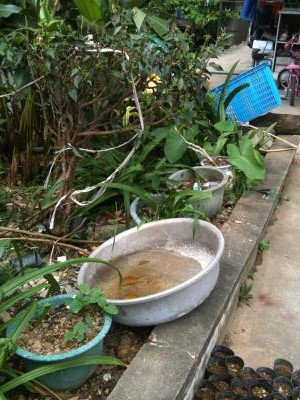bowl: (72, 214, 227, 328)
